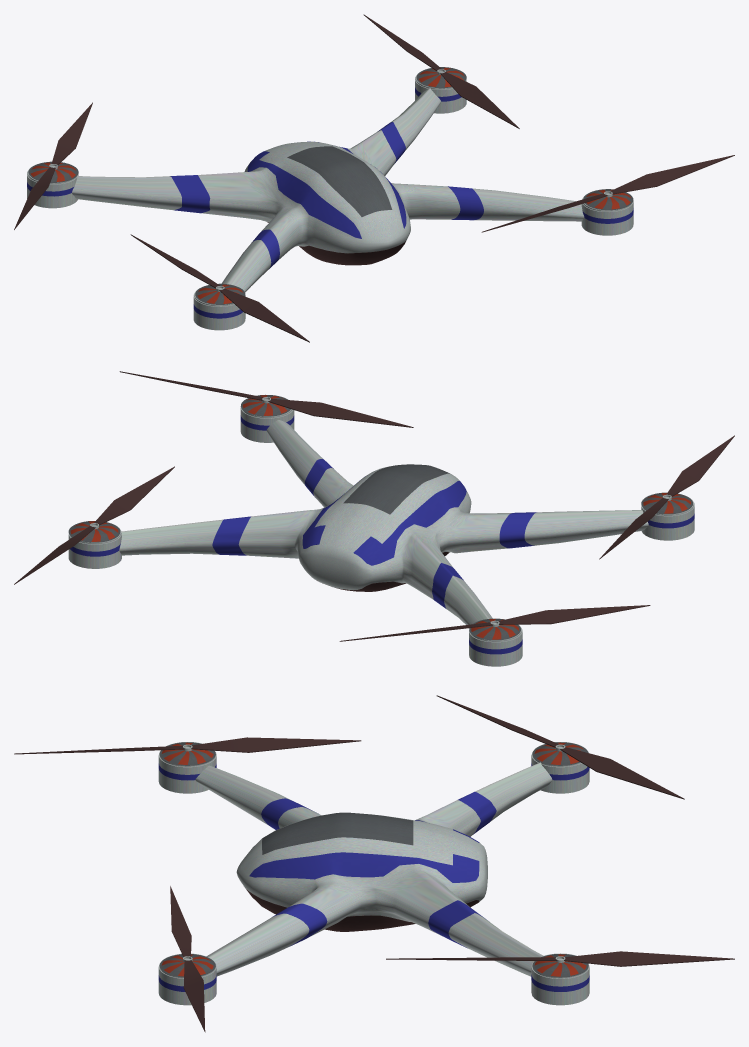
The model's file is wurenji1.obj.
3 renders of one model, top to bottom at view 1: azimuth 30°, elevation 25°; view 2: azimuth 150°, elevation 25°; view 3: azimuth 270°, elevation 25°, orthographic. The views are drawn at different scales.
Visible parts, largest first — view 1: mesh_0, mesh_3, mesh_1, mesh_4, mesh_2; view 2: mesh_0, mesh_3, mesh_1, mesh_4, mesh_2; view 3: mesh_0, mesh_3, mesh_1, mesh_4, mesh_2.
Boxes of the visible parts, left/top/right/bottom form: mesh_0: left=27, top=69, right=633, bottom=330; mesh_3: left=14, top=14, right=734, bottom=342; mesh_1: left=27, top=87, right=633, bottom=318; mesh_4: left=28, top=67, right=633, bottom=304; mesh_2: left=30, top=67, right=630, bottom=303; mesh_0: left=68, top=397, right=694, bottom=666; mesh_3: left=14, top=371, right=734, bottom=641; mesh_1: left=70, top=415, right=694, bottom=654; mesh_4: left=68, top=394, right=692, bottom=640; mesh_2: left=70, top=395, right=690, bottom=639; mesh_0: left=158, top=742, right=589, bottom=1005; mesh_3: left=14, top=695, right=734, bottom=1032; mesh_1: left=158, top=763, right=589, bottom=991; mesh_4: left=159, top=742, right=588, bottom=977; mesh_2: left=162, top=742, right=586, bottom=976.
Bounding box in the file's own units: 1.35 × 0.1942 × 1.22.
Materials: 5 (5 with a texture image).
